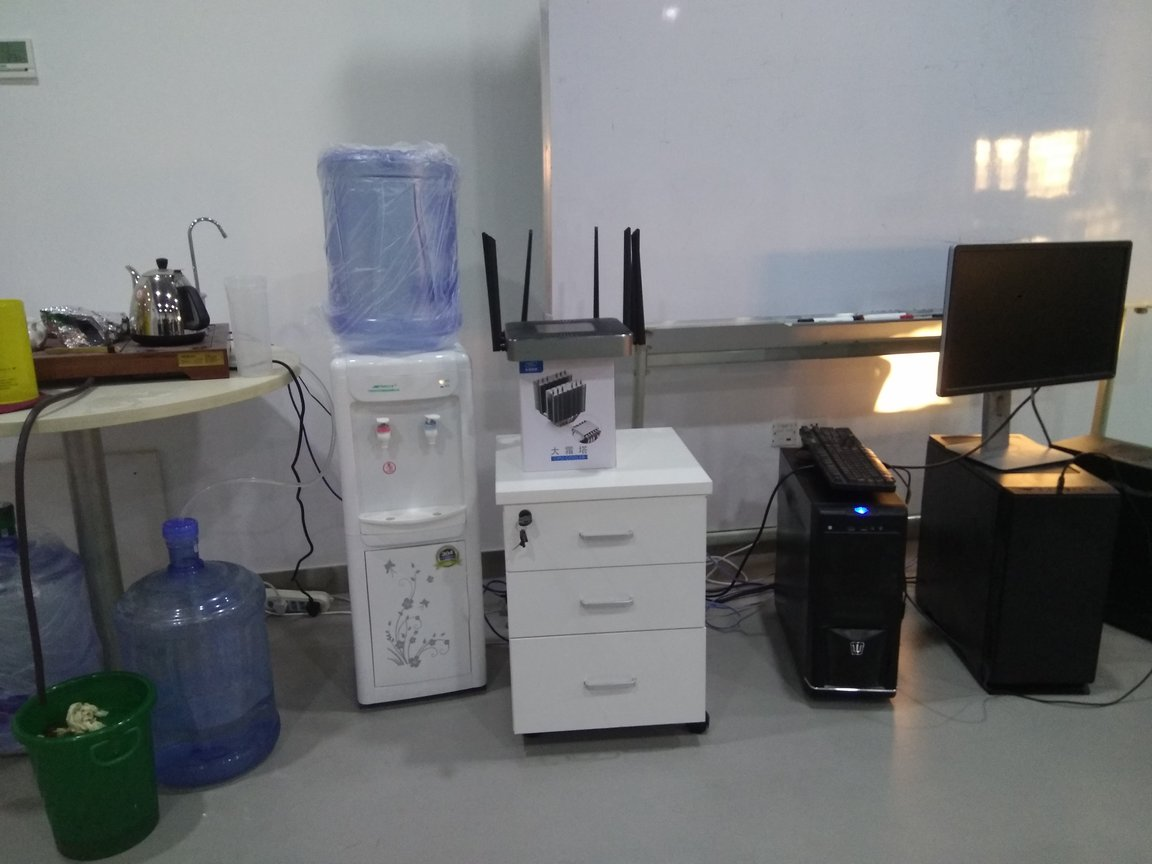computer: (926, 427, 1116, 705), (776, 436, 907, 707), (1055, 424, 1152, 638)
drawer chest: (489, 426, 717, 746)
monitor: (943, 232, 1137, 477)
scuttlebutt: (102, 512, 286, 802), (325, 142, 464, 351), (2, 500, 101, 746)
water dispenser: (322, 335, 497, 704)
